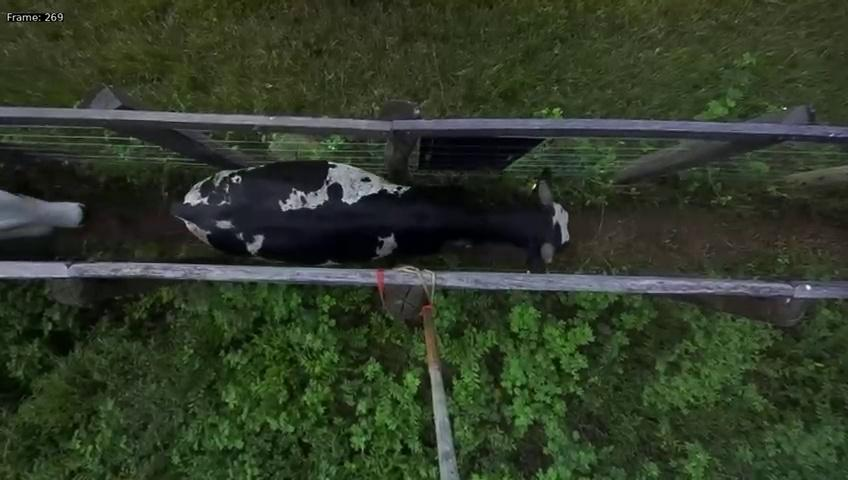cattle: (161, 143, 573, 272)
